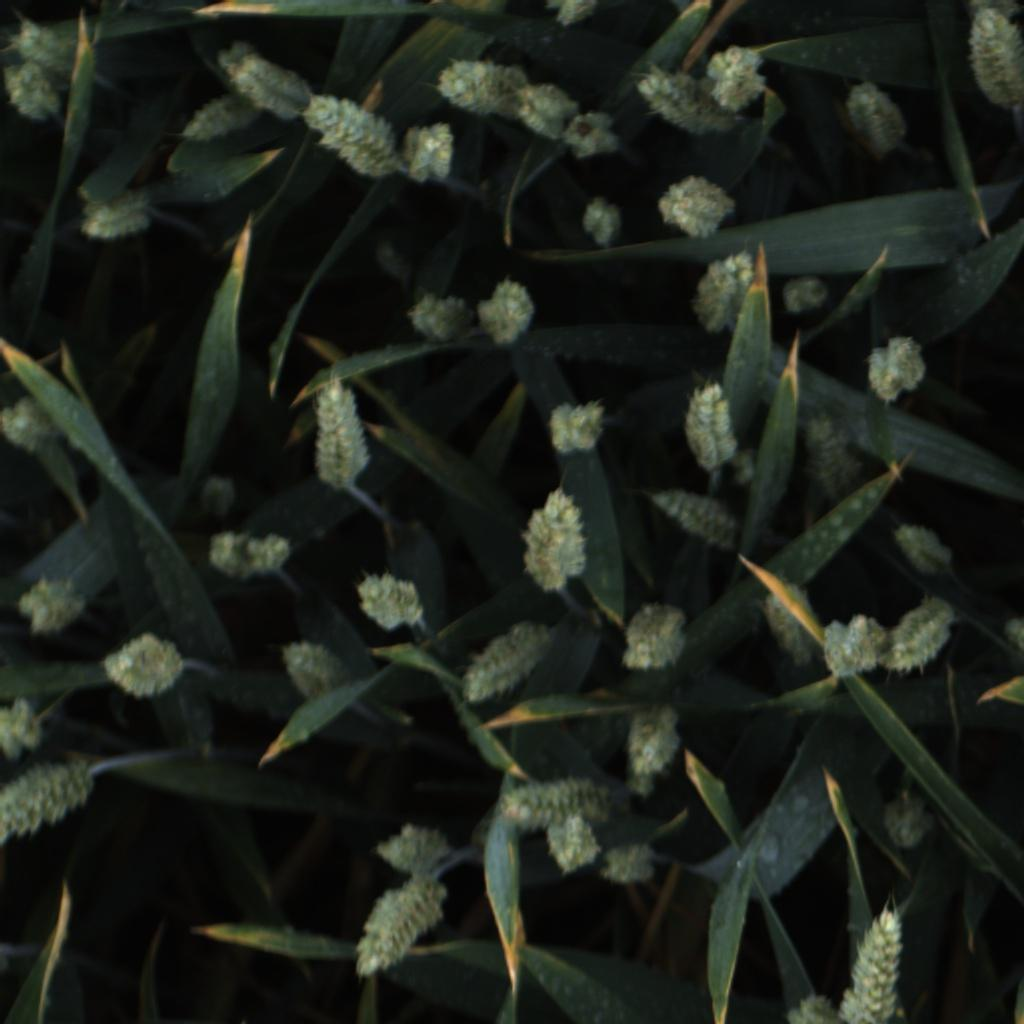0-0: (348, 871, 447, 981), (1, 749, 99, 848), (301, 91, 407, 181), (633, 62, 744, 142), (215, 39, 318, 124), (837, 906, 911, 1024), (514, 483, 590, 595), (310, 368, 374, 495), (459, 619, 552, 705), (201, 659, 315, 725), (431, 58, 538, 123), (877, 594, 961, 676), (497, 770, 608, 829), (100, 629, 189, 702), (962, 9, 1023, 112), (649, 484, 740, 553), (651, 169, 739, 240), (793, 418, 862, 505), (687, 251, 755, 338), (841, 80, 913, 162), (683, 375, 738, 475), (618, 602, 692, 676), (761, 577, 819, 669), (356, 563, 426, 637), (862, 331, 932, 405), (17, 572, 93, 640), (277, 634, 347, 703), (206, 528, 291, 584), (818, 613, 888, 681), (623, 700, 684, 778), (474, 277, 536, 351), (374, 818, 454, 875), (704, 44, 771, 112), (873, 788, 940, 854), (544, 393, 612, 458), (890, 516, 957, 581), (402, 286, 473, 345), (397, 120, 461, 183), (0, 397, 63, 461), (76, 191, 155, 242), (176, 93, 250, 147), (515, 83, 582, 141), (14, 16, 78, 72), (7, 63, 68, 121), (1, 692, 51, 762), (565, 113, 625, 168), (776, 266, 834, 319), (597, 839, 658, 888), (546, 818, 599, 874), (578, 194, 626, 247), (194, 473, 239, 524), (783, 990, 844, 1024), (729, 446, 769, 492), (542, 0, 599, 29), (965, 0, 1020, 28), (625, 763, 657, 798)
